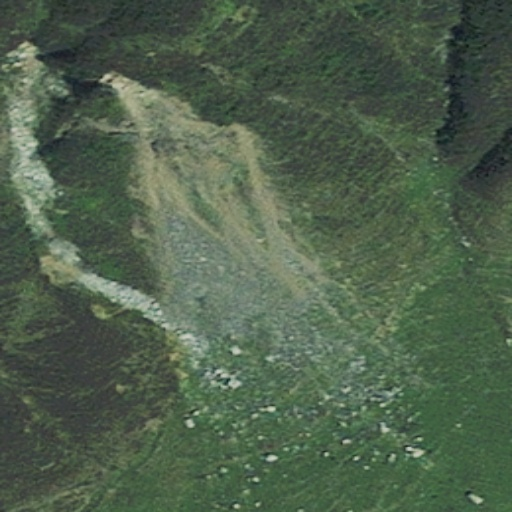landslide: (102, 69, 319, 332)
